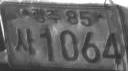0: (59, 30, 80, 61)
1: (39, 28, 56, 62)
4: (102, 31, 122, 65)
5: (79, 9, 92, 27)
6: (81, 30, 100, 64)
8: (63, 9, 78, 26)
광주_H: (30, 5, 59, 26)
사: (13, 27, 35, 54)
